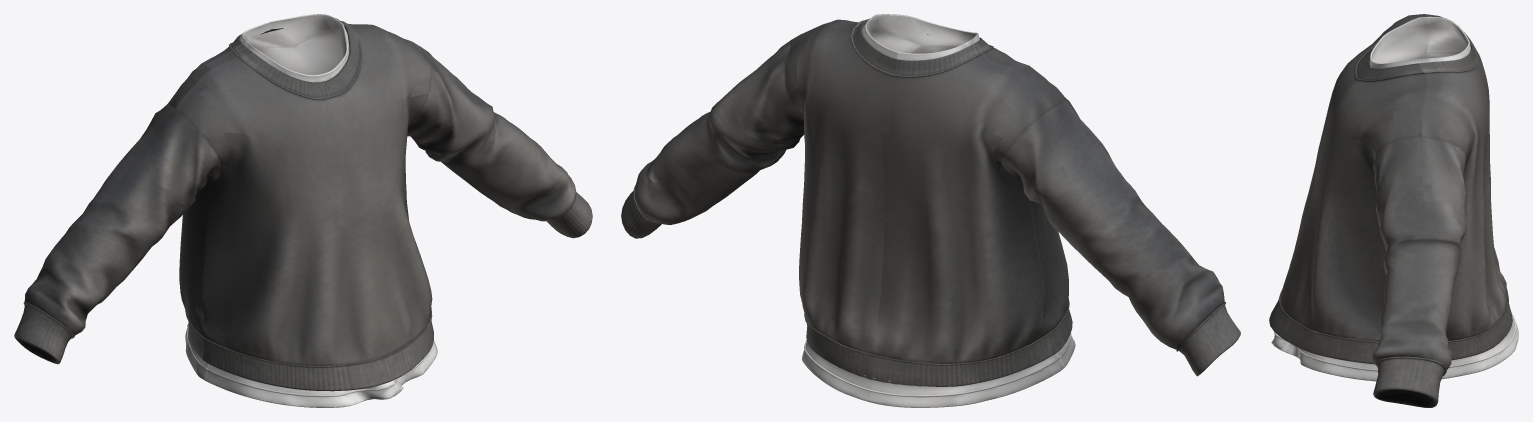
The model's file is top5.glb.
The picture shows the model from 3 angles, left to right: view 1: azimuth 30°, elevation 25°; view 2: azimuth 150°, elevation 25°; view 3: azimuth 270°, elevation 25°; orthographic projection. The views are drawn at different scales.
Visible parts, largest first — view 1: s4studio_mesh_1; view 2: s4studio_mesh_1; view 3: s4studio_mesh_1.
Boxes of the visible parts, x1,y1,x2,y2 form: s4studio_mesh_1: (14,14,592,407); s4studio_mesh_1: (621,14,1240,407); s4studio_mesh_1: (1269,14,1518,407).
Size of the model in its own units: 0.5216 by 0.2787 by 0.2088.
1 material, 1 textured.
